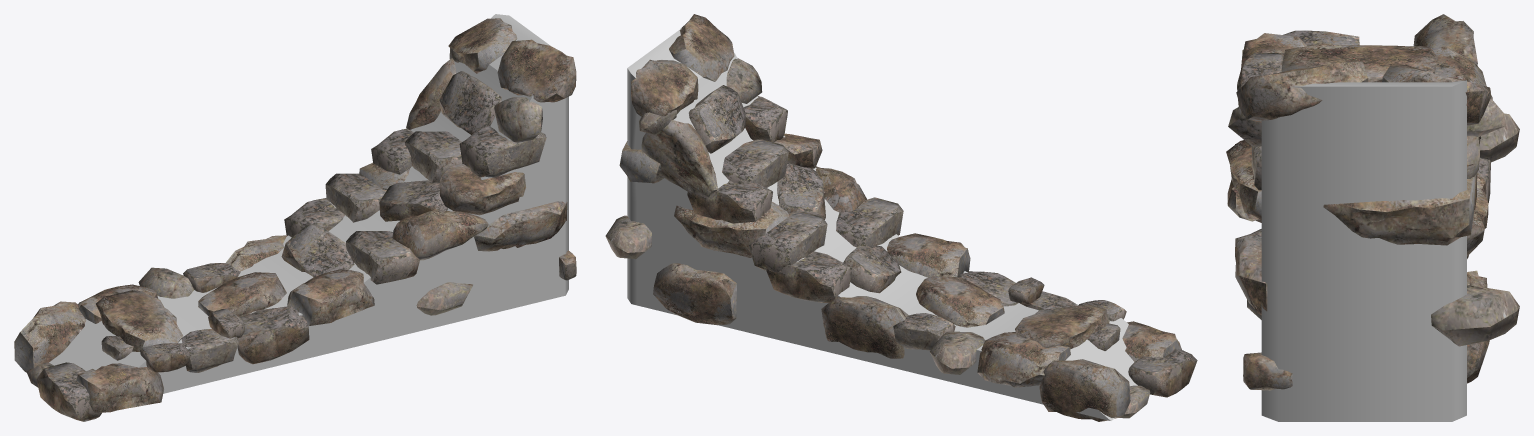
The model's file is SM_Wall05.FBX.
3 renders of one model, left to right at view 1: azimuth 30°, elevation 25°; view 2: azimuth 150°, elevation 25°; view 3: azimuth 270°, elevation 25°, orthographic. The views are drawn at different scales.
Visible parts, largest first — view 1: SM_Wall05; view 2: SM_Wall05; view 3: SM_Wall05.
Part boxes in pixels (x1,y1,x2,y2): SM_Wall05: [14, 14, 576, 421]; SM_Wall05: [605, 14, 1197, 421]; SM_Wall05: [1226, 14, 1519, 421].
Bounding box in the file's own units: 634 × 215 × 297.
